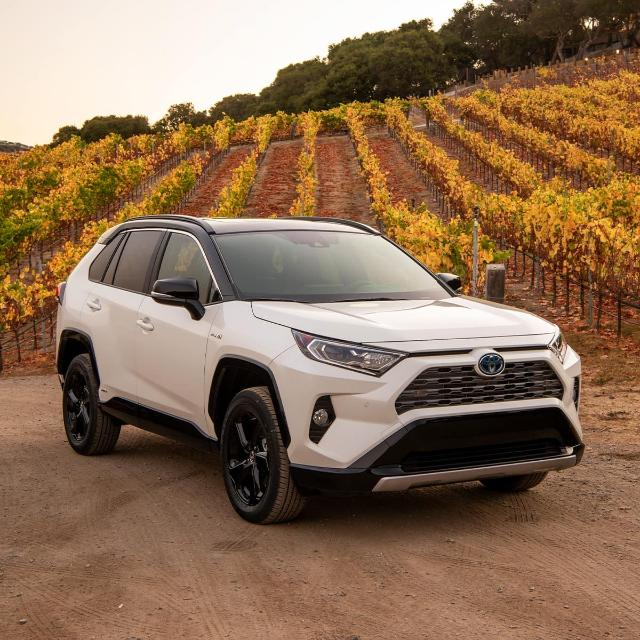toyota: (55, 214, 588, 524)
